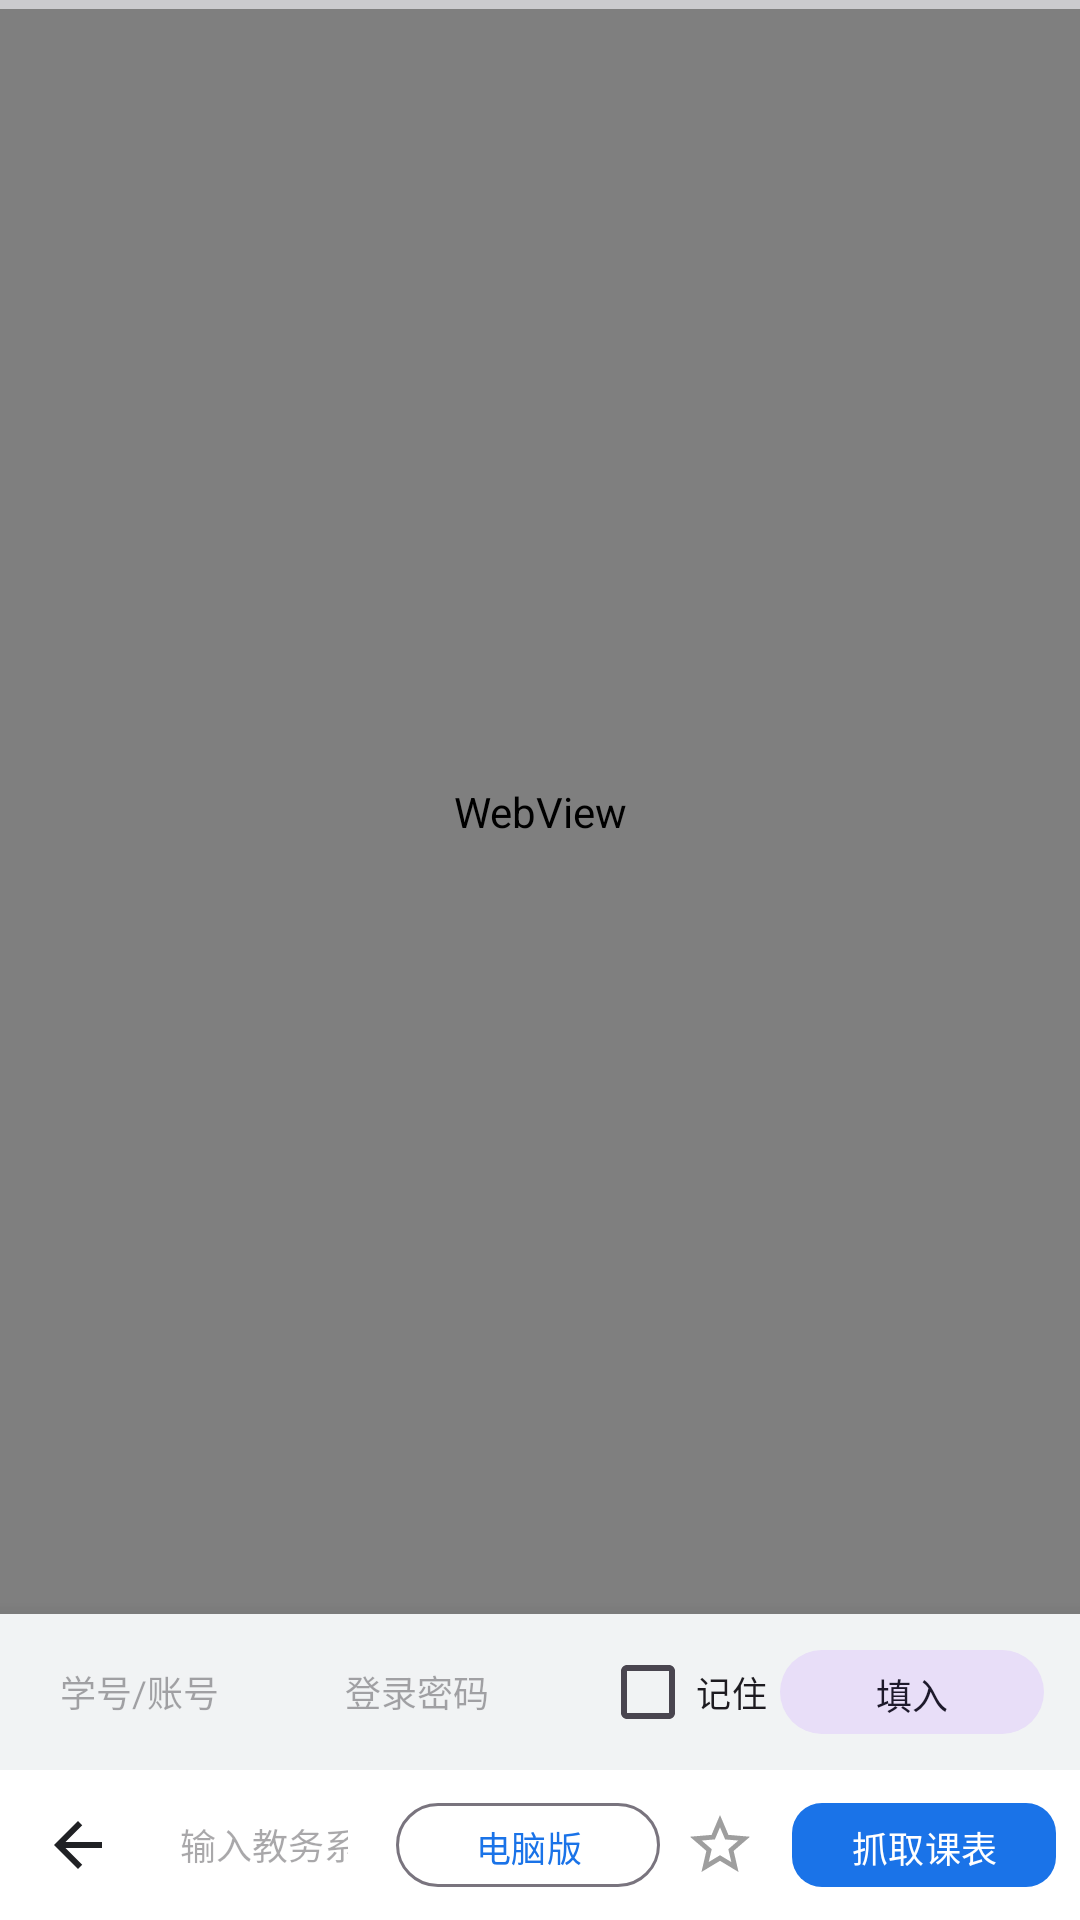

Icon click points for this 1080px x 1920px phone screenshot, format [x,y]:
设为默认: [720,1844]
返回: [78,1845]
